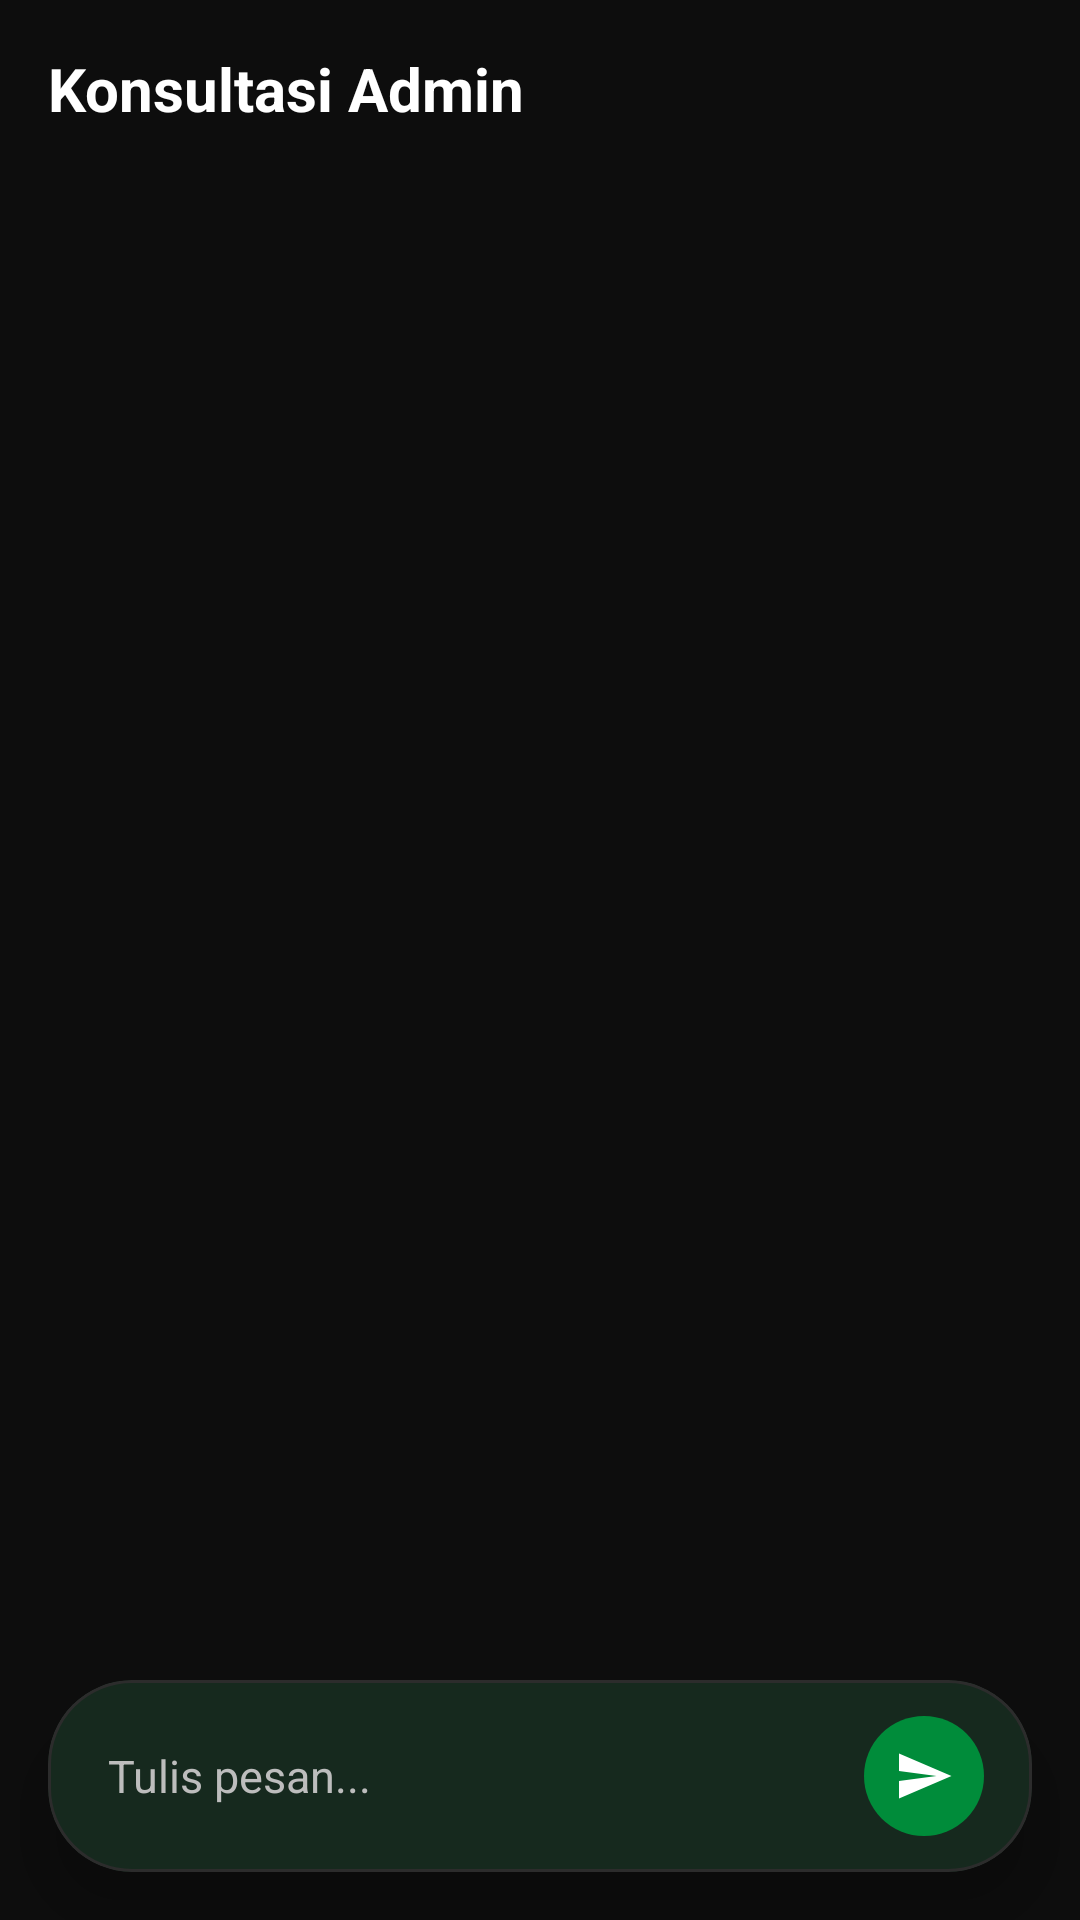

Named icons in this screenshot (1080 x 1920) and their bounding boxes, [x1,y1,x2,y2]:
send: [864,1716,984,1836]
